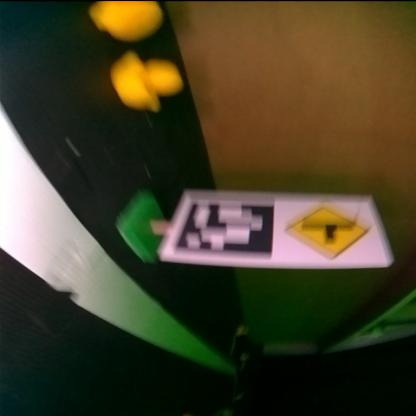Duckie: (112, 51, 186, 111), (90, 2, 166, 41)
Intersection sign: (285, 197, 384, 262)
QR code: (171, 200, 276, 260)
